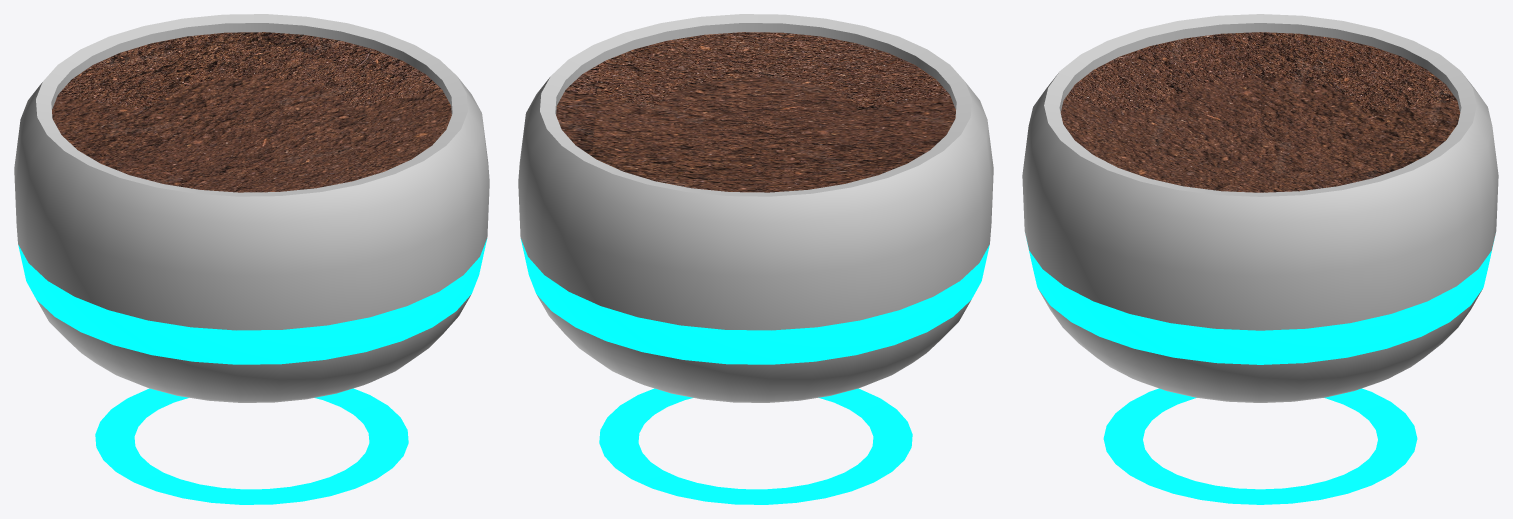
The model's file is Vaso.fbx.
3 renders of one model, left to right at view 1: azimuth 30°, elevation 25°; view 2: azimuth 150°, elevation 25°; view 3: azimuth 270°, elevation 25°, orthographic.
Visible parts, largest first — view 1: Cylinder; view 2: Cylinder; view 3: Cylinder.
Part boxes in pixels (left/top/right/bottom): Cylinder: left=14, top=14, right=489, bottom=504; Cylinder: left=518, top=14, right=993, bottom=504; Cylinder: left=1022, top=14, right=1498, bottom=504.
Size of the model in its own units: 54.23 by 41.99 by 54.23.
